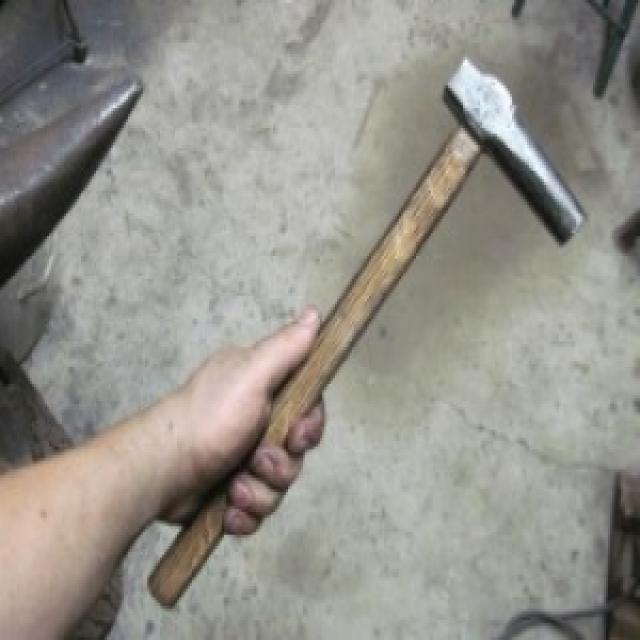hammer: (137, 54, 598, 612)
